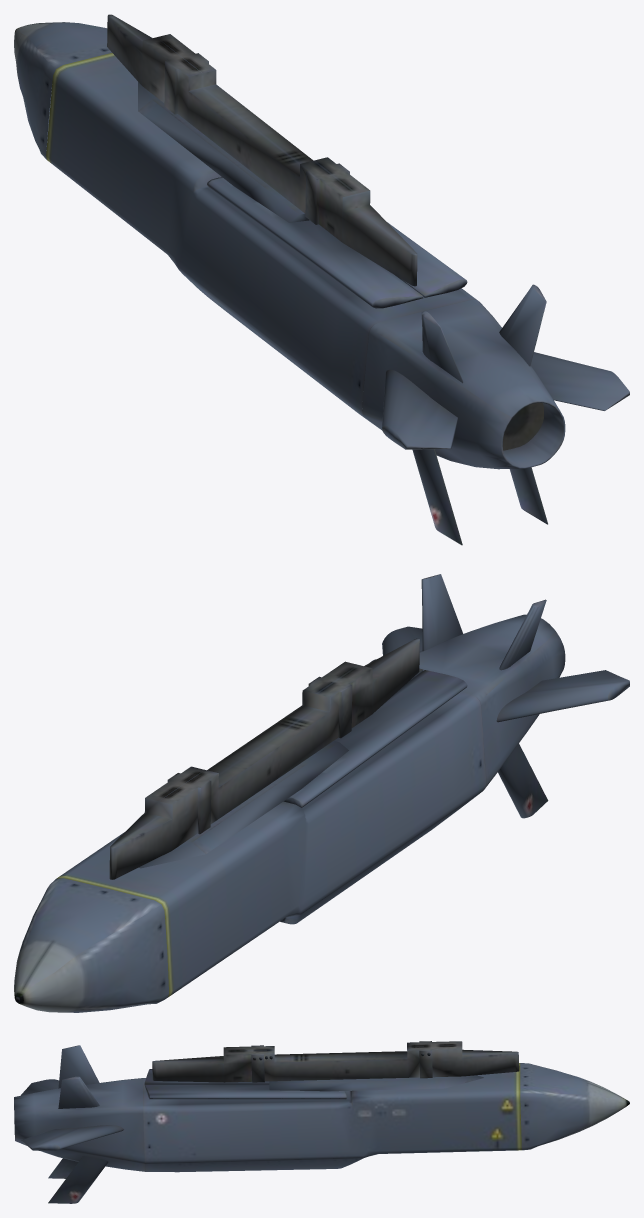
Rendered from w_storm.glb.
3 renders of one model, top to bottom at view 1: azimuth 30°, elevation 25°; view 2: azimuth 150°, elevation 25°; view 3: azimuth 270°, elevation 25°, orthographic. The views are drawn at different scales.
Parts seen in each view (by area): view 1: body|ss_misile.006, body|ss_misile.005, body|ss_misile.007, body|ss_misile, body|ss_misile.009, body|ss_misile.003, body|ss_misile.001, body|ss_misile.008, body|ss_misile.010, body|ss_misile.004; view 2: body|ss_misile.006, body|ss_misile.005, body|ss_misile.003, body|ss_misile.007, body|ss_misile, body|ss_misile.001, body|ss_misile.009, body|ss_misile.008, body|ss_misile.010; view 3: body|ss_misile.006, body|ss_misile.005, body|ss_misile.007, body|ss_misile.003, body|ss_misile, body|ss_misile.001, body|ss_misile.008, body|ss_misile.009, body|ss_misile.010.
Boxes of the visible parts, x1,y1,x2,y2 form: body|ss_misile.006: (46, 53, 477, 429); body|ss_misile.005: (107, 14, 417, 286); body|ss_misile.007: (362, 300, 565, 469); body|ss_misile: (207, 177, 467, 308); body|ss_misile.009: (382, 352, 629, 449); body|ss_misile.003: (14, 22, 111, 159); body|ss_misile.001: (138, 82, 309, 222); body|ss_misile.008: (421, 284, 546, 383); body|ss_misile.010: (412, 449, 547, 545); body|ss_misile.004: (503, 403, 543, 450); body|ss_misile.006: (57, 692, 485, 997); body|ss_misile.005: (109, 638, 419, 879); body|ss_misile.003: (14, 878, 168, 1012); body|ss_misile.007: (419, 614, 565, 789); body|ss_misile: (283, 659, 467, 807); body|ss_misile.001: (138, 741, 348, 868); body|ss_misile.009: (382, 626, 629, 722); body|ss_misile.008: (421, 574, 546, 670); body|ss_misile.010: (498, 743, 548, 818); body|ss_misile.006: (143, 1063, 521, 1172); body|ss_misile.005: (152, 1041, 519, 1082); body|ss_misile.007: (14, 1078, 145, 1171); body|ss_misile.003: (520, 1063, 629, 1150); body|ss_misile: (144, 1069, 346, 1099); body|ss_misile.001: (269, 1075, 483, 1091); body|ss_misile.008: (58, 1045, 99, 1108); body|ss_misile.009: (21, 1079, 123, 1150); body|ss_misile.010: (48, 1156, 108, 1203).
Size of the model in its own units: 1.29 by 1.32 by 5.09.
11 materials, 11 textured.
